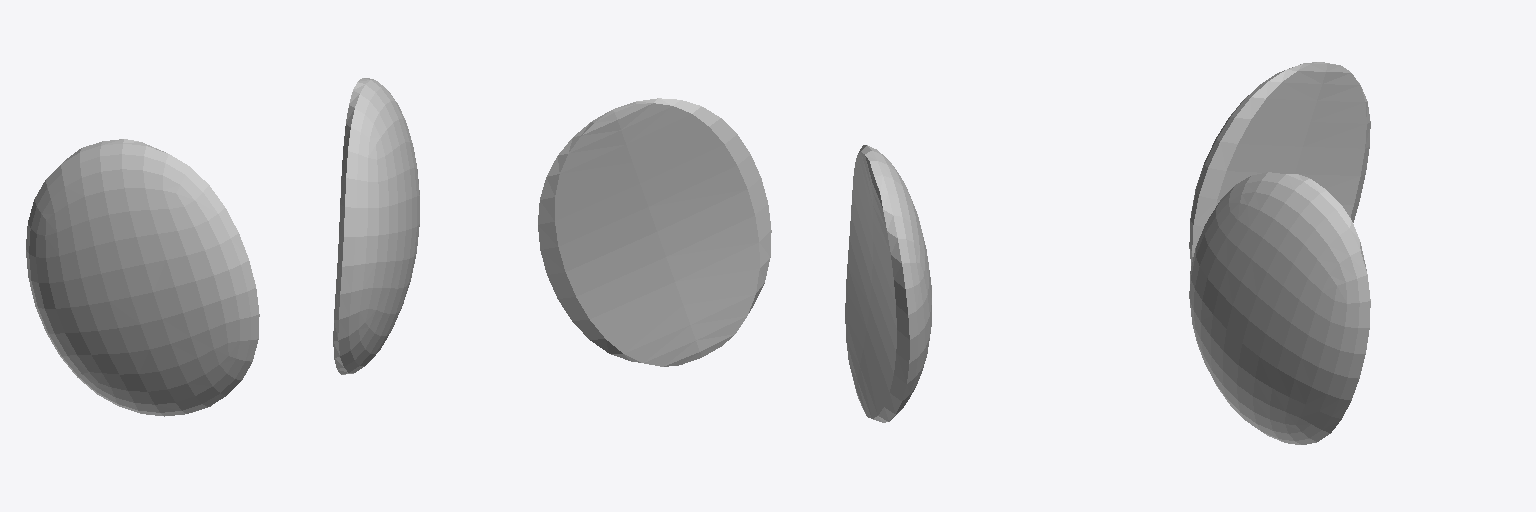
The model's file is Anthro eyes3.obj.
3 renders of one model, left to right at view 1: azimuth 30°, elevation 25°; view 2: azimuth 150°, elevation 25°; view 3: azimuth 270°, elevation 25°, orthographic.
Visible parts, largest first — view 1: ref_body_01.003_ref_body_01.006; view 2: ref_body_01.003_ref_body_01.006; view 3: ref_body_01.003_ref_body_01.006.
Boxes of the visible parts, x1=… form: ref_body_01.003_ref_body_01.006: x1=26, y1=78, x2=419, y2=416; ref_body_01.003_ref_body_01.006: x1=538, y1=98, x2=931, y2=422; ref_body_01.003_ref_body_01.006: x1=1189, y1=62, x2=1370, y2=444.
Size of the model in its own units: 30.21 by 20.68 by 12.63.